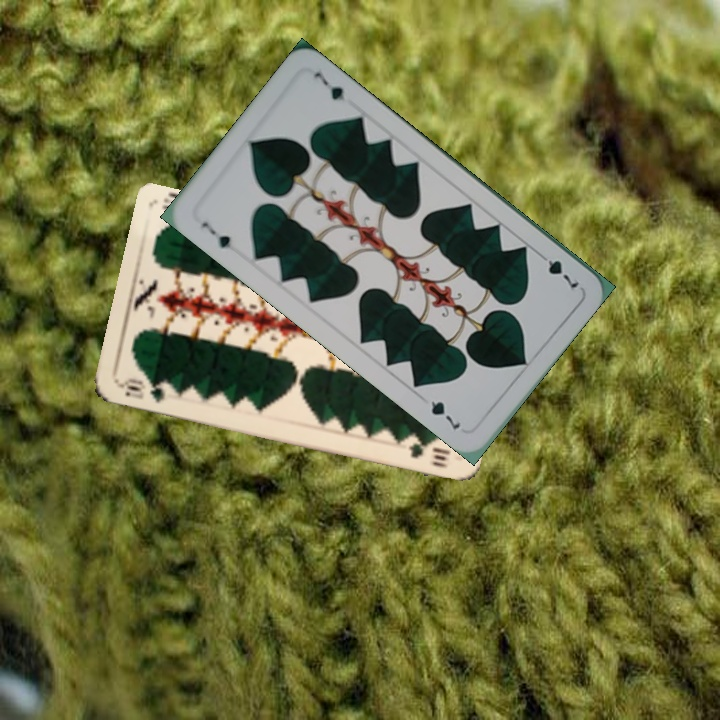G10: (115, 374, 167, 405)
G7: (533, 248, 582, 291), (197, 217, 234, 251)
